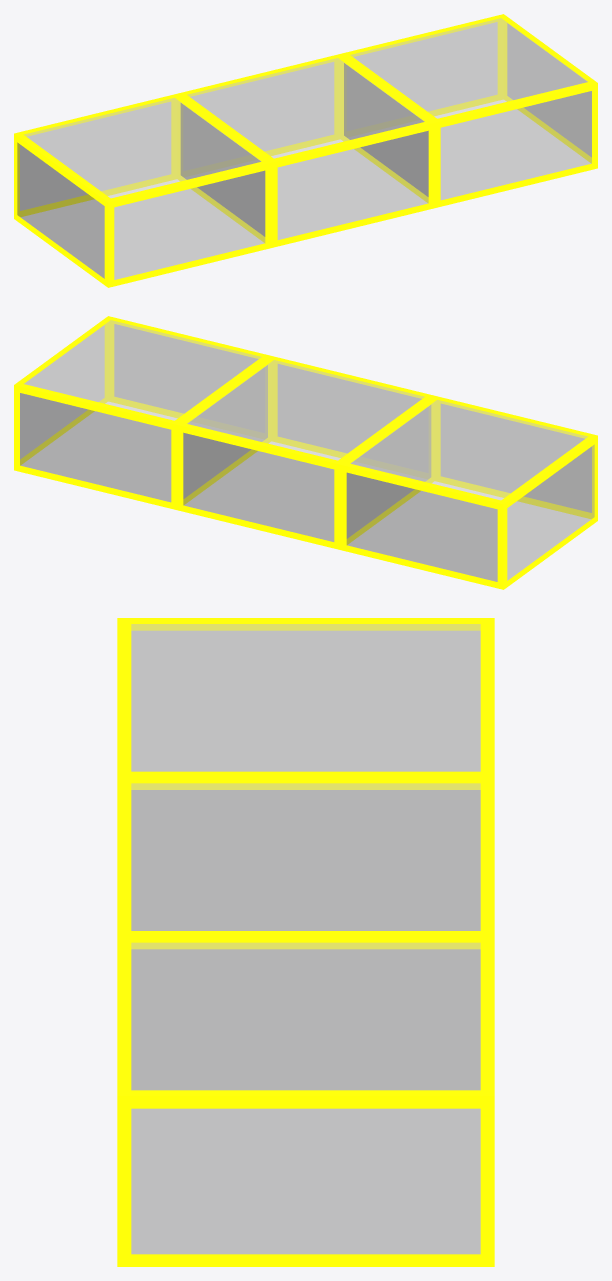
The model's file is EL Plat.fbx.
3 views of the same model, one above another, from view 1: azimuth 30°, elevation 25°; view 2: azimuth 150°, elevation 25°; view 3: azimuth 270°, elevation 25° (orthographic). The views are drawn at different scales.
Visible parts, largest first — view 1: Platform.004, Platform.005, Platform.007; view 2: Platform.004, Platform.005, Platform.007; view 3: Platform.007, Platform.004, Platform.005.
Part boxes in pixels (left/top/right/bottom): Platform.004: left=14, top=94, right=271, bottom=287; Platform.005: left=177, top=54, right=434, bottom=247; Platform.007: left=340, top=14, right=597, bottom=207; Platform.004: left=340, top=396, right=597, bottom=589; Platform.005: left=177, top=356, right=434, bottom=549; Platform.007: left=14, top=316, right=271, bottom=509; Platform.007: left=117, top=936, right=494, bottom=1266; Platform.004: left=117, top=618, right=494, bottom=930; Platform.005: left=117, top=777, right=494, bottom=1089.
Size of the model in its own units: 600 by 100 by 200.
